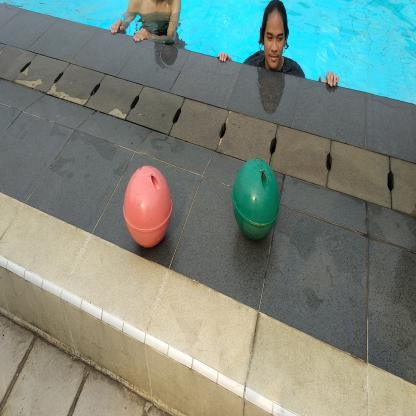green_buoy: (230, 155, 281, 245)
red_buoy: (122, 160, 174, 255)
